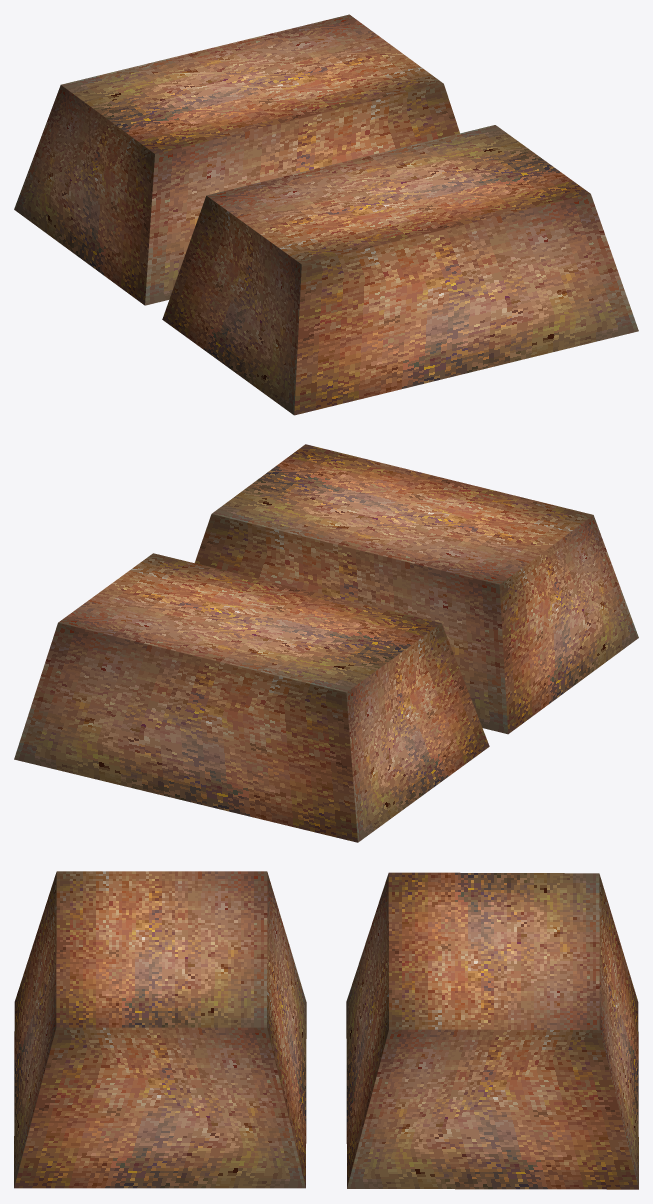
Rendered from iron_2.glb.
3 renders of one model, top to bottom at view 1: azimuth 30°, elevation 25°; view 2: azimuth 150°, elevation 25°; view 3: azimuth 270°, elevation 25°, orthographic. The views are drawn at different scales.
Visible parts, largest first — view 1: iron01.001; view 2: iron01.001; view 3: iron01.001.
Part boxes in pixels (x1=…): iron01.001: x1=14, y1=14, x2=638, y2=415; iron01.001: x1=14, y1=444, x2=638, y2=842; iron01.001: x1=14, y1=871, x2=638, y2=1189.
Size of the model in its own units: 63.22 by 22.94 by 89.15.
1 material, 1 textured.
